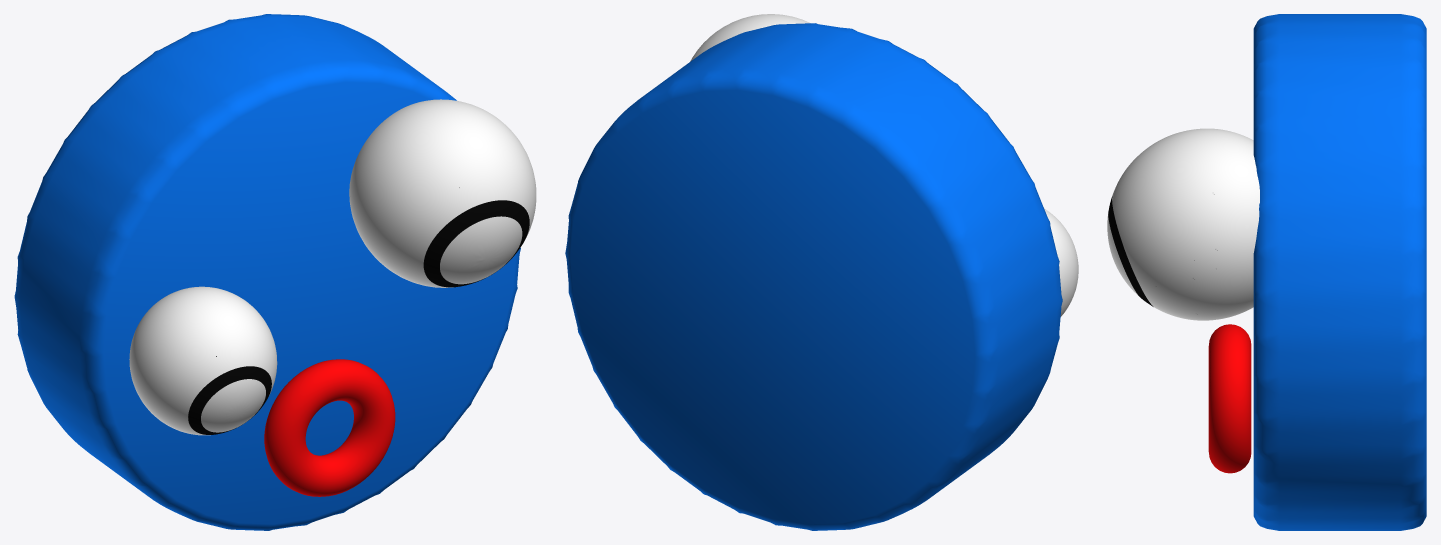
The model's file is CirculoGloink.glb.
The picture shows the model from 3 angles, left to right: view 1: azimuth 30°, elevation 25°; view 2: azimuth 150°, elevation 25°; view 3: azimuth 270°, elevation 25°; orthographic projection. The views are drawn at different scales.
Parts seen in each view (by area): view 1: Object_18, Object_21, Object_20, Object_19; view 2: Object_18, Object_20, Object_21; view 3: Object_18, Object_21, Object_19.
Part boxes in pixels (left/top/right/bottom): Object_18: left=14, top=14, right=520, bottom=530; Object_21: left=349, top=99, right=536, bottom=287; Object_20: left=129, top=286, right=277, bottom=435; Object_19: left=264, top=359, right=395, bottom=496; Object_18: left=565, top=23, right=1062, bottom=530; Object_20: left=1044, top=208, right=1078, bottom=316; Object_21: left=690, top=14, right=810, bottom=61; Object_18: left=1253, top=14, right=1426, bottom=530; Object_21: left=1107, top=128, right=1259, bottom=320; Object_19: left=1208, top=324, right=1251, bottom=473.
Size of the model in its own units: 0.2382 by 0.2382 by 0.1471.
Materials: 4 (4 with a texture image).
